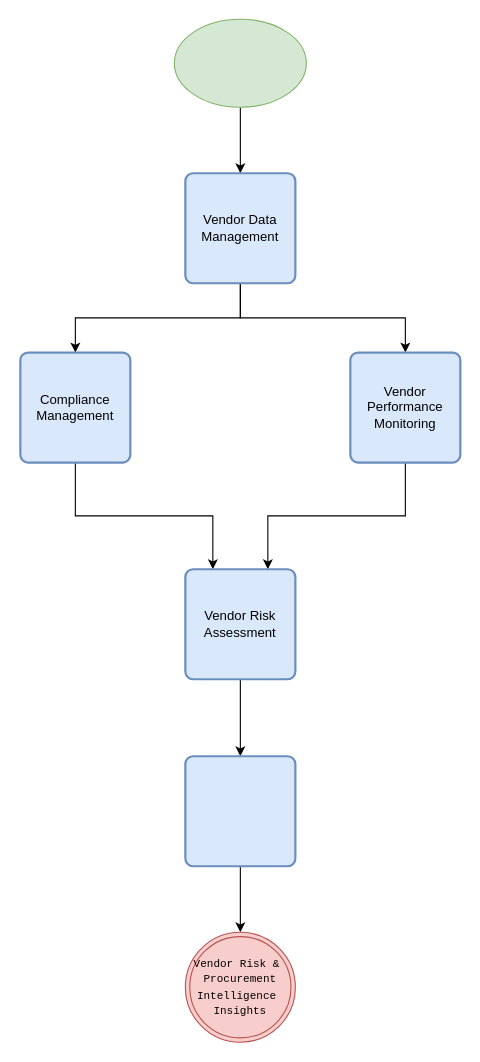
Image size: 480x1062. Some labels were removed from this diagram. The shapes that lost their labels are listed below. From the top down, each one's centre as x and y in pixels, then its label:
At (239,62): "Vendor & Procurement Data Available".
At (240,811): "Reporting & Alert Management".
